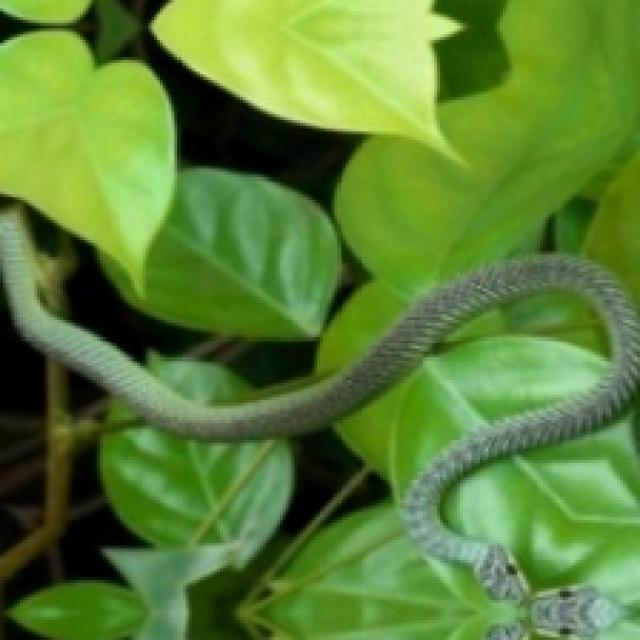paradise tree snake: (0, 206, 637, 634)
